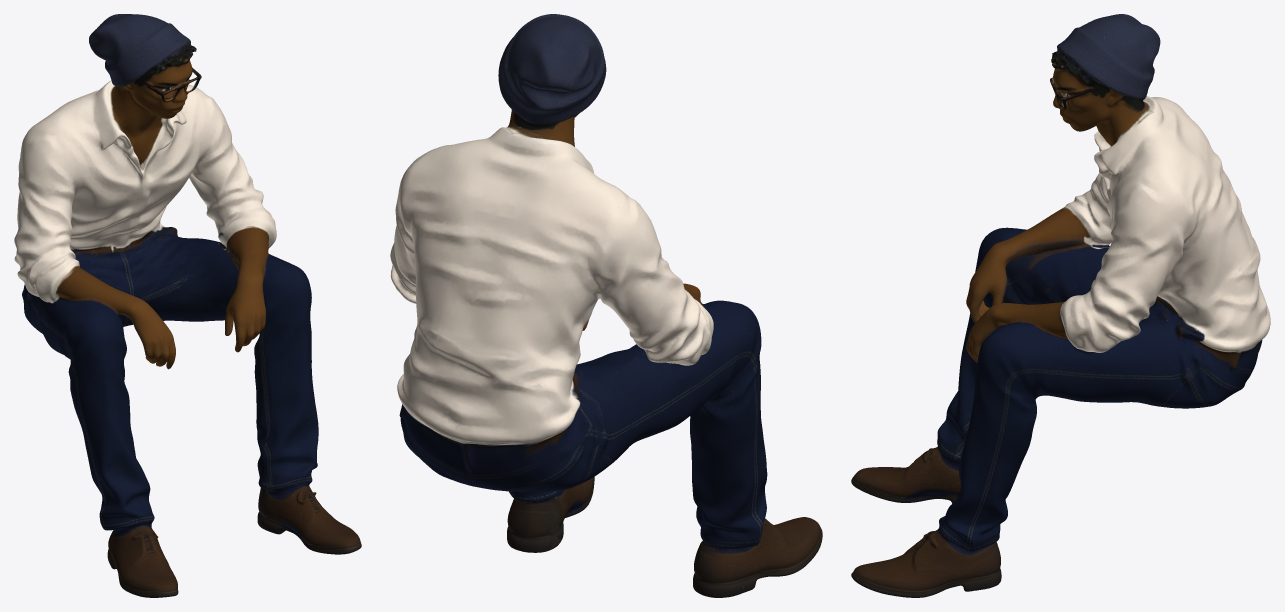
Rendered from justjammin.glb.
3 views of the same model, side by side, from view 1: azimuth 30°, elevation 25°; view 2: azimuth 150°, elevation 25°; view 3: azimuth 270°, elevation 25° (orthographic). The views are drawn at different scales.
Size of the model in its own units: 1.01 by 1.9 by 1.39.
1 material, 1 textured.
